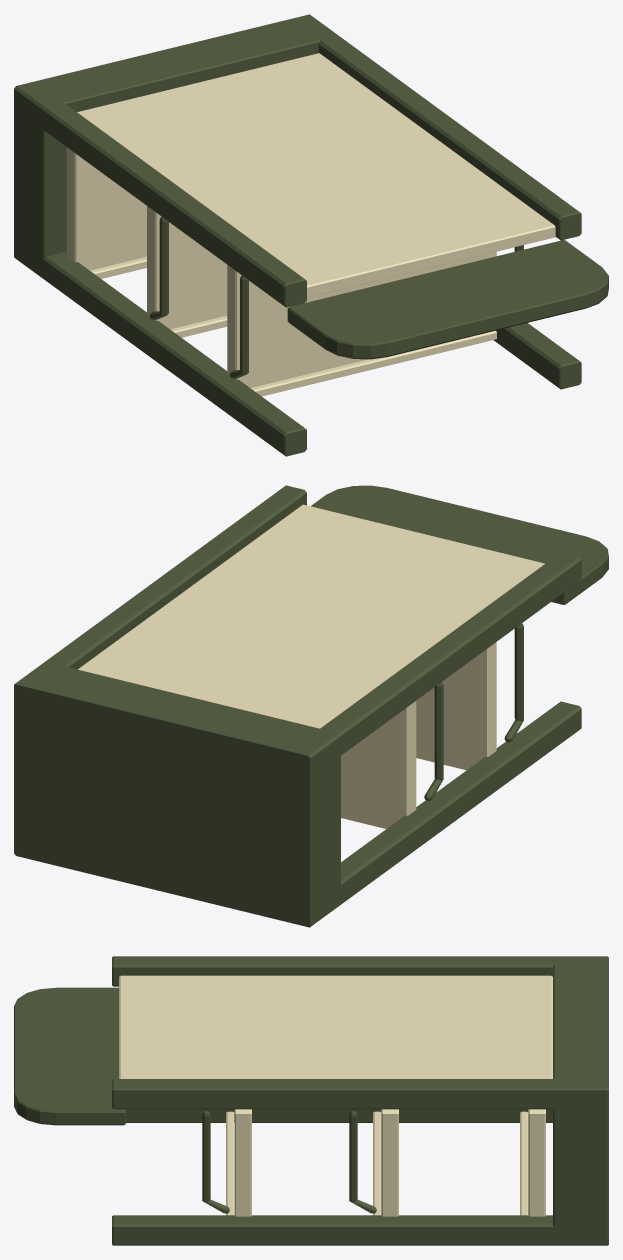
Rendered from fixture_03_aisle_endcap.glb.
3 renders of one model, top to bottom at view 1: azimuth 30°, elevation 25°; view 2: azimuth 150°, elevation 25°; view 3: azimuth 270°, elevation 25°, orthographic. The views are drawn at different scales.
Parts seen in each view (by area): view 1: fixture_03_aisle_endcap; view 2: fixture_03_aisle_endcap; view 3: fixture_03_aisle_endcap.
Part boxes in pixels (left/top/right/bottom): fixture_03_aisle_endcap: left=14, top=14, right=608, bottom=456; fixture_03_aisle_endcap: left=14, top=485, right=608, bottom=927; fixture_03_aisle_endcap: left=14, top=956, right=608, bottom=1245.
Size of what is drawn, in the model's own units: 0.9 by 0.5 by 1.7.
